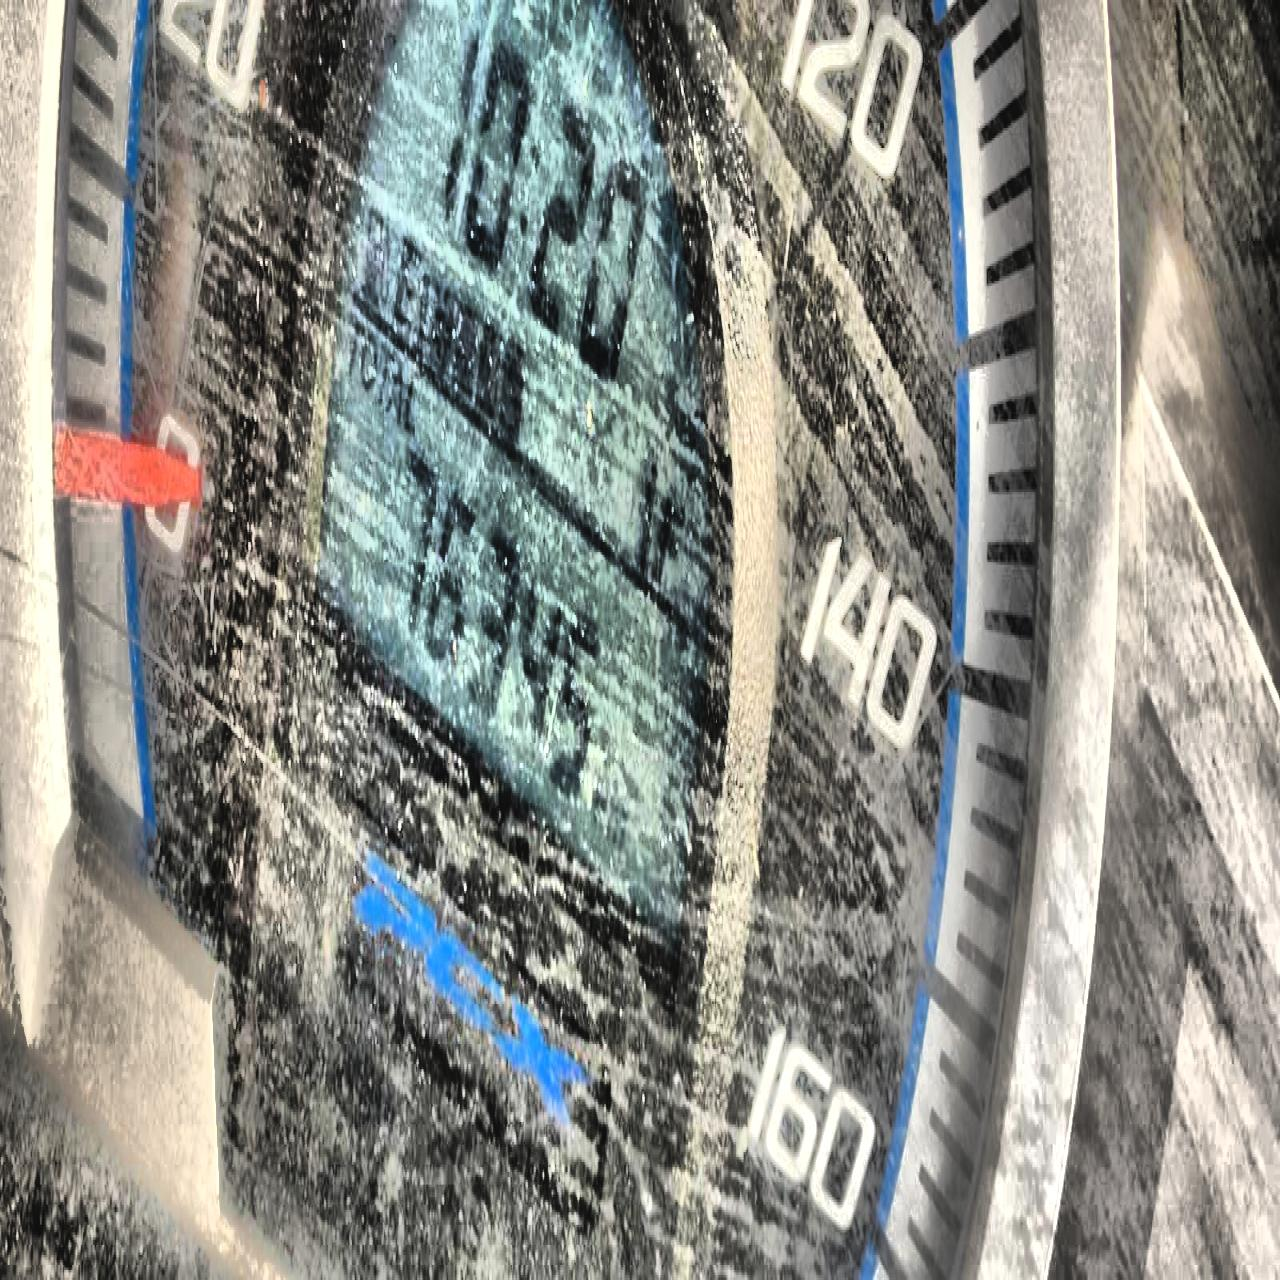0: (464, 26, 538, 253), (579, 173, 652, 379)
1: (438, 0, 488, 222)
2: (532, 75, 595, 347)
3: (467, 506, 516, 720)
4: (523, 552, 564, 772)
5: (559, 595, 597, 826)
6: (421, 477, 475, 673)
7: (401, 447, 434, 642)
X: (654, 482, 683, 587), (517, 130, 543, 240), (392, 220, 418, 321), (402, 363, 422, 440), (345, 301, 362, 387), (361, 326, 377, 399), (388, 359, 406, 424), (377, 332, 393, 402)
odometer: (302, 2, 728, 961)
